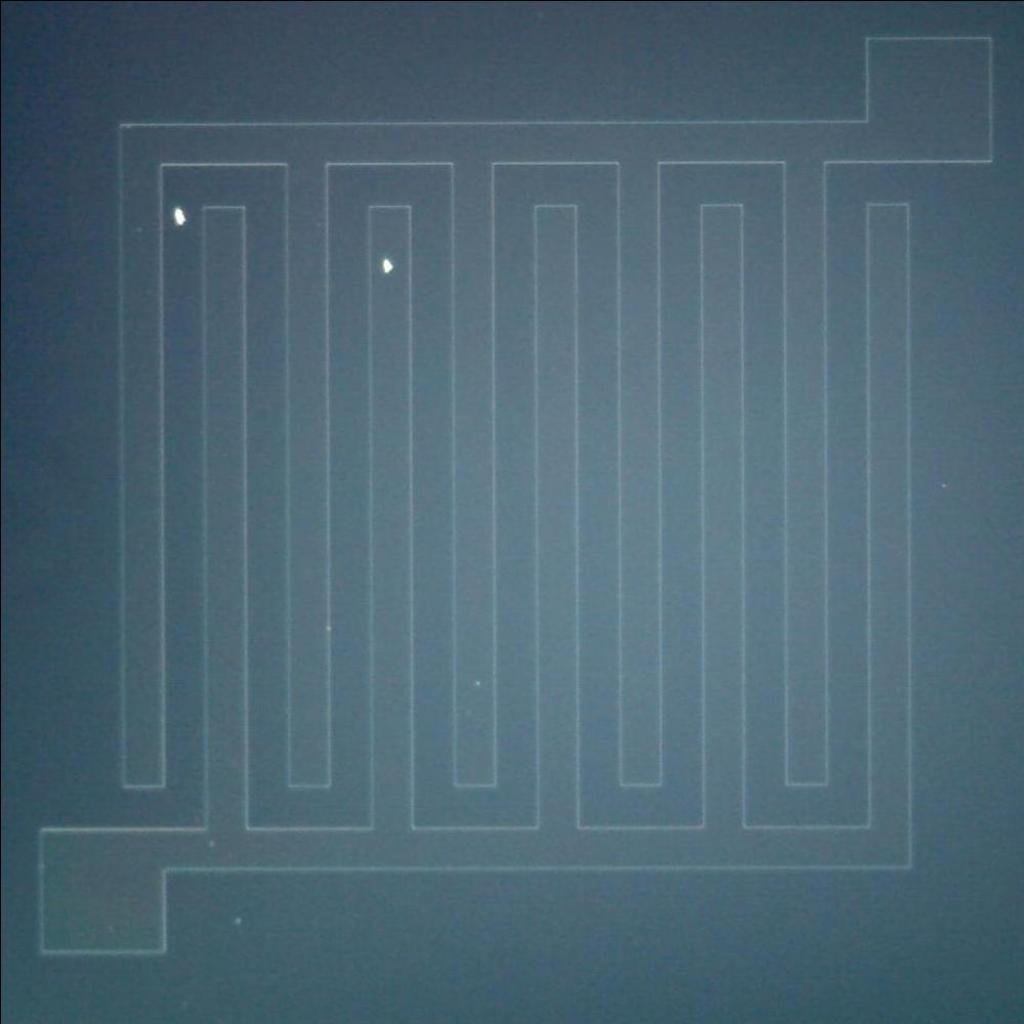spot: (161, 199, 192, 234), (372, 250, 399, 278)
